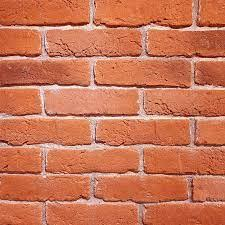Bricks: (47, 31, 143, 58), (95, 177, 192, 202), (97, 1, 194, 25), (47, 90, 140, 115), (1, 119, 93, 144), (1, 1, 91, 26), (97, 120, 190, 144), (144, 148, 225, 175), (1, 176, 88, 201), (145, 90, 225, 117), (97, 62, 190, 85), (0, 61, 90, 84), (45, 149, 139, 171), (146, 31, 225, 55), (46, 205, 136, 225), (145, 206, 225, 225), (0, 29, 41, 53), (0, 90, 42, 113), (0, 148, 40, 172), (0, 204, 40, 225), (192, 179, 225, 199), (200, 0, 225, 25), (196, 122, 225, 143), (198, 63, 225, 83)
